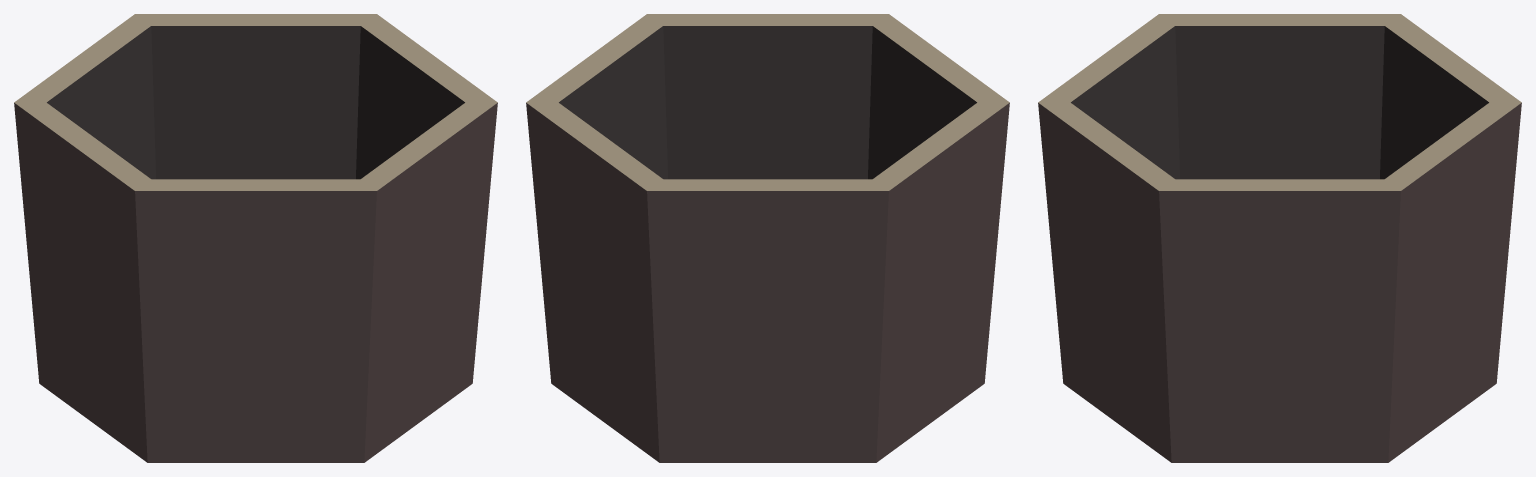
File: TB_D_Prop_Bucket_C.FBX
3 views of the same model, side by side, from view 1: azimuth 30°, elevation 25°; view 2: azimuth 150°, elevation 25°; view 3: azimuth 270°, elevation 25° (orthographic).
Parts seen in each view (by area): view 1: TB_D_Prop_Bucket_C; view 2: TB_D_Prop_Bucket_C; view 3: TB_D_Prop_Bucket_C.
Part boxes in pixels (x1,y1,x2,y2): TB_D_Prop_Bucket_C: [14, 14, 497, 462]; TB_D_Prop_Bucket_C: [526, 14, 1009, 462]; TB_D_Prop_Bucket_C: [1038, 14, 1521, 462].
Bounding box in the file's own units: 0.4708 × 0.3485 × 0.5436.
